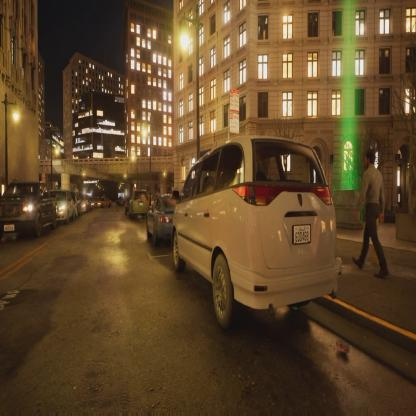License-Plate: (287, 212, 320, 258), (1, 218, 17, 238)
